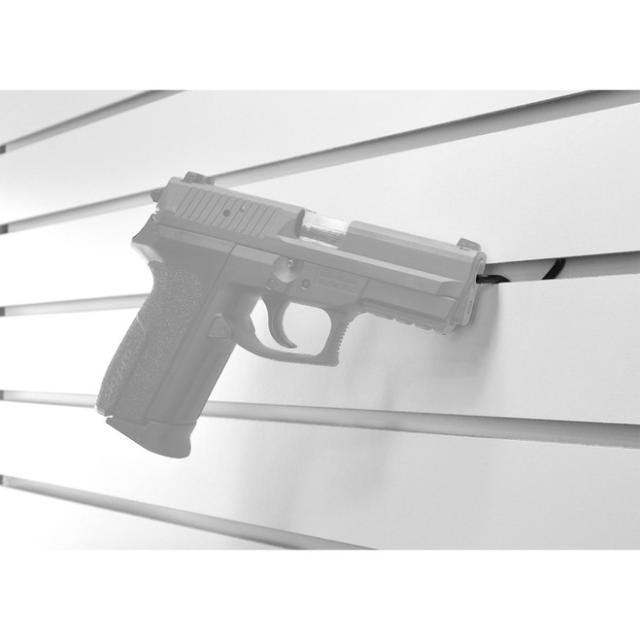HandGun: (95, 174, 507, 462)
